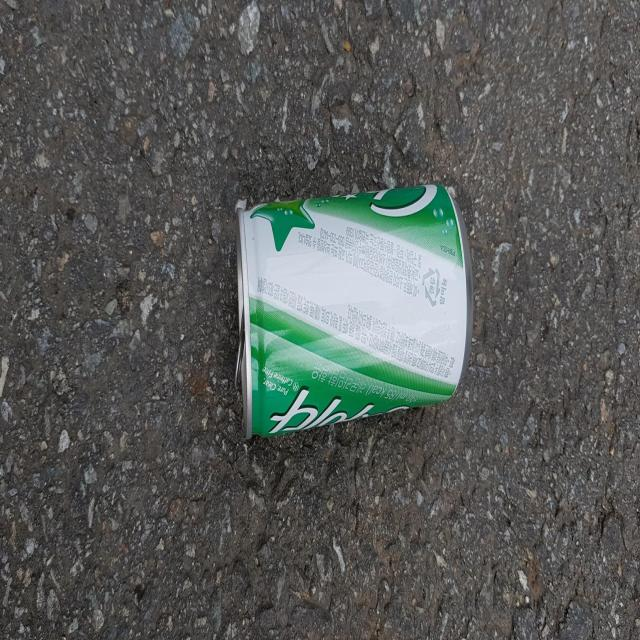can: (236, 183, 474, 437)
